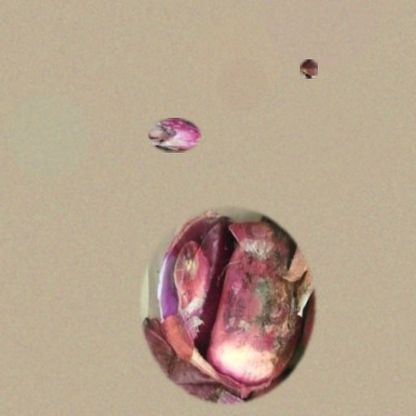damaged: (135, 200, 320, 410)
rotten: (146, 118, 202, 153)
sprouted: (300, 59, 318, 79)
